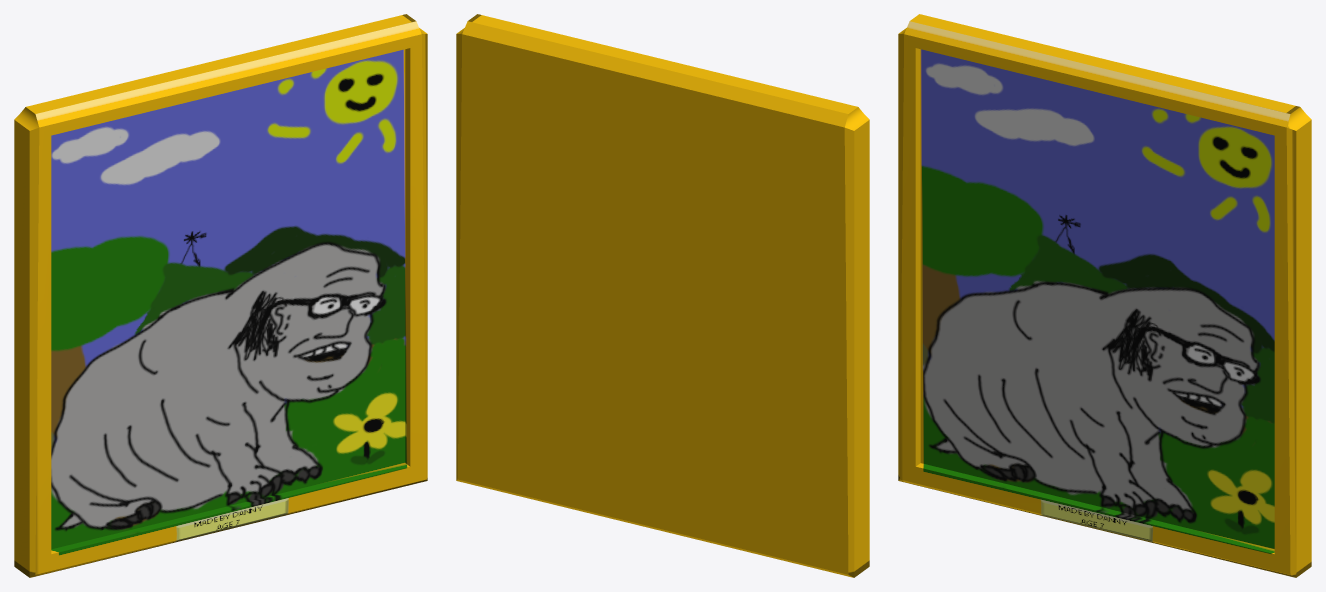
The model's file is Painting.fbx.
The picture shows the model from 3 angles, left to right: view 1: azimuth 30°, elevation 25°; view 2: azimuth 150°, elevation 25°; view 3: azimuth 330°, elevation 25°; orthographic projection.
Parts seen in each view (by area): view 1: pCube1; view 2: pCube1; view 3: pCube1.
Part boxes in pixels (<box>): pCube1: <box>14,14,427,577</box>; pCube1: <box>456,14,869,577</box>; pCube1: <box>898,14,1311,577</box>.
Bounding box in the file's own units: 178 × 197 × 15.28.
